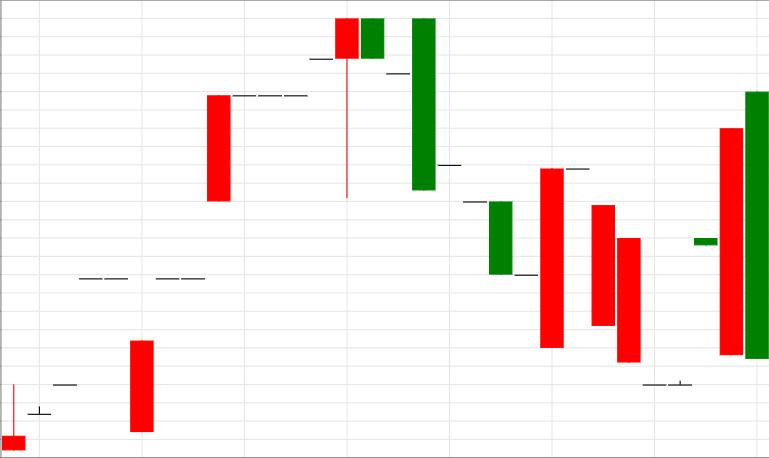hanging_man_fall: (130, 19, 359, 432)
